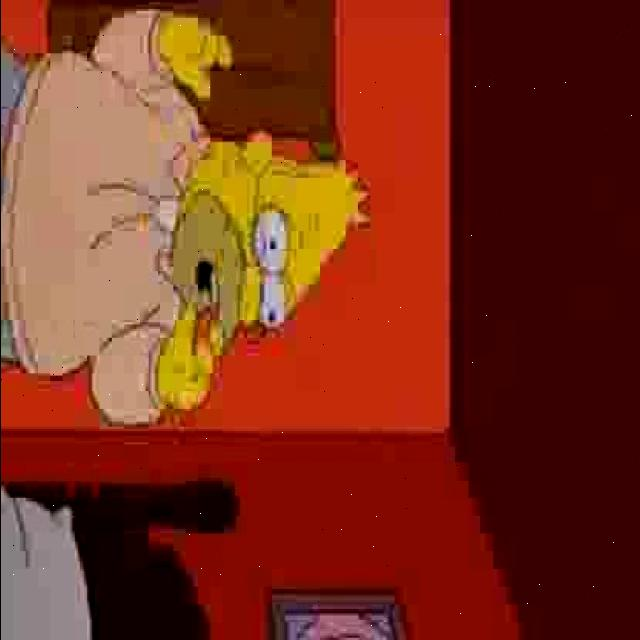Abraham Grampa Simpson: (166, 122, 370, 354)
